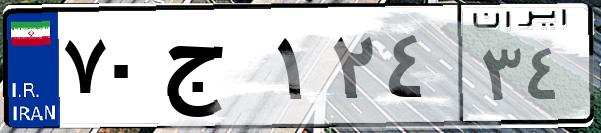0: (110, 28, 158, 98)
1: (270, 28, 330, 110)
2: (330, 28, 385, 110)
3: (475, 38, 525, 113)
4: (385, 28, 445, 110), (525, 38, 570, 115)
7: (57, 26, 110, 100)
ج: (158, 20, 270, 120)
